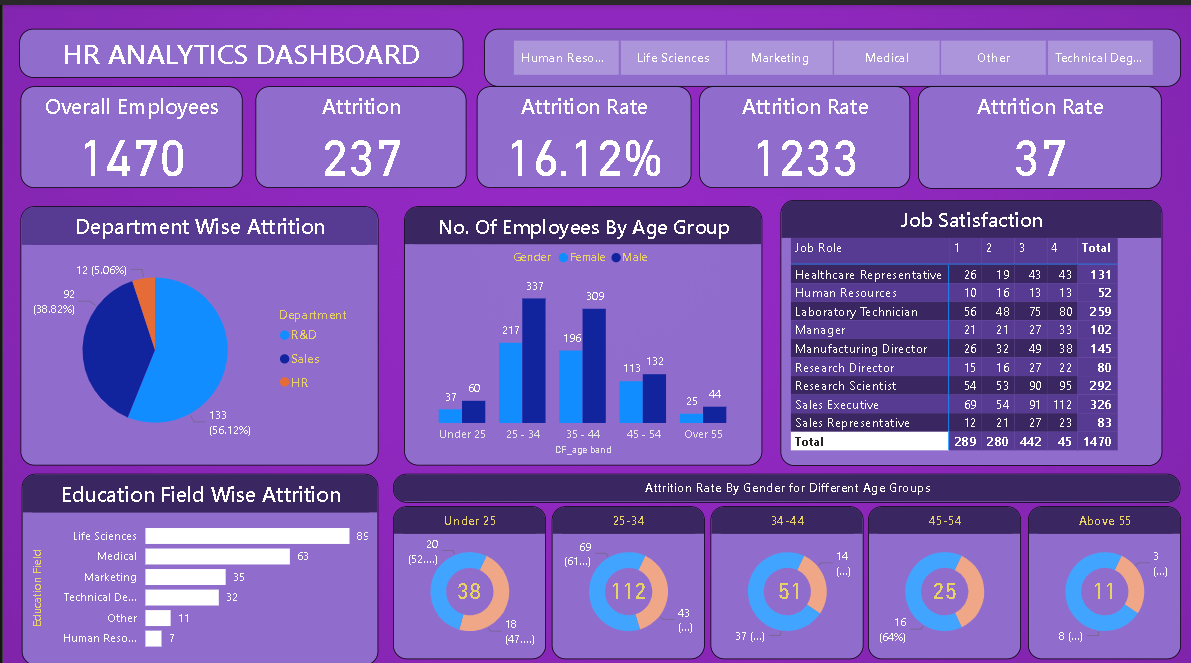

This screenshot's page, from the dashboard's own definition file:
{"tool":"powerbi","page":{"name":"Page 1","canvas":[1280,720],"ordinal":0},"visuals":[{"type":"card","title":"Overall Employees","fields":{"Values":["Sum(HR data.Employee Count)"]},"box":[18.5,87.9,238.8,109.7],"z":0},{"type":"card","title":"Attrition","fields":{"Values":["Sum(HR data.Attrition Count)"]},"box":[272.5,87.9,226.9,109.7],"z":1000},{"type":"card","title":"Attrition Rate","fields":{"Values":["HR data.Attrition Rate"]},"box":[510.3,87.9,231.2,109.7],"z":2000},{"type":"card","title":"Attrition Rate","fields":{"Values":["HR data.Active Employees"]},"box":[750.2,87.9,226.9,109.7],"z":3000},{"type":"card","title":"Attrition Rate","fields":{"Values":["Avg(HR data.Age)"]},"box":[985.9,87.8,262.3,110],"z":4000},{"type":"pieChart","title":"Department Wise Attrition","fields":{"Category":["HR data.Department"],"Y":["Sum(HR data.Attrition Count)"]},"box":[18.5,217.1,385.4,279],"z":5000},{"type":"clusteredColumnChart","title":"No. Of Employees By Age Group","fields":{"Category":["HR data.CF_age band"],"Y":["Sum(HR data.Employee Count)"],"Series":["HR data.Gender"]},"box":[432.1,217.1,385.4,279],"z":6000},{"type":"pivotTable","title":"Job Satisfaction","fields":{"Columns":["HR data.Job Satisfaction"],"Rows":["HR data.Job Role"],"Values":["Sum(HR data.Employee Count)"]},"box":[836.8,209.5,411.5,286.7],"z":7000},{"type":"clusteredBarChart","title":"Education Field Wise Attrition","fields":{"Category":["HR data.Education Field"],"Y":["Sum(HR data.Attrition Count)"]},"box":[19.5,504.8,384.3,206.3],"z":8000},{"type":"donutChart","title":"Under 25","fields":{"Y":["Sum(HR data.Attrition Count)"],"Category":["HR data.Gender"],"Series":["HR data.CF_age band"]},"box":[420,539.5,165,165],"z":8001},{"type":"textbox","title":"Attrition Rate By Gender for Different Age Groups","box":[420,504.6,848.4,31],"z":8002},{"type":"donutChart","title":"25-34","fields":{"Y":["Sum(HR data.Attrition Count)"],"Category":["HR data.Gender"],"Series":["HR data.CF_age band"]},"box":[591.3,539.5,165,165],"z":8003},{"type":"donutChart","title":"45-54","fields":{"Y":["Sum(HR data.Attrition Count)"],"Category":["HR data.Gender"],"Series":["HR data.CF_age band"]},"box":[932,539.5,165,165],"z":8004},{"type":"donutChart","title":"34-44","fields":{"Y":["Sum(HR data.Attrition Count)"],"Category":["HR data.Gender"],"Series":["HR data.CF_age band"]},"box":[761.7,539.5,165,165],"z":8005},{"type":"donutChart","title":"Above 55","fields":{"Y":["Sum(HR data.Attrition Count)"],"Category":["HR data.Gender"],"Series":["HR data.CF_age band"]},"box":[1103.3,539.5,165,165],"z":8006},{"type":"card","fields":{"Values":["Sum(HR data.Attrition Count)"]},"box":[472.5,608,59.3,44.2],"z":8007},{"type":"card","fields":{"Values":["Sum(HR data.Attrition Count)"]},"box":[816.9,608,59.3,44.2],"z":8008},{"type":"card","fields":{"Values":["Sum(HR data.Attrition Count)"]},"box":[643.8,608,59.3,44.2],"z":8009},{"type":"card","fields":{"Values":["Sum(HR data.Attrition Count)"]},"box":[983.5,608,59.3,44.2],"z":8010},{"type":"card","fields":{"Values":["Sum(HR data.Attrition Count)"]},"box":[1155.8,608,59.3,44.2],"z":8011},{"type":"textbox","title":"HR ANALYTICS DASHBOARD","box":[18,25.4,478.1,52.9],"z":8012},{"type":"slicer","fields":{"Values":["HR data.Education Field"]},"box":[518.3,25.4,750,62.4],"z":8013}]}

Visuals, with their boxes in screenshot pixels (x1, y1, x2, y2), scaled from the page's 1280x720 canvas onto the 1191x663 screenshot:
"Overall Employees" card: bbox(17, 81, 239, 182)
"Attrition" card: bbox(254, 81, 465, 182)
"Attrition Rate" card: bbox(475, 81, 690, 182)
"Attrition Rate" card: bbox(698, 81, 909, 182)
"Attrition Rate" card: bbox(917, 81, 1161, 182)
"Department Wise Attrition" pieChart: bbox(17, 200, 376, 457)
"No. Of Employees By Age Group" clusteredColumnChart: bbox(402, 200, 761, 457)
"Job Satisfaction" pivotTable: bbox(779, 193, 1162, 457)
"Education Field Wise Attrition" clusteredBarChart: bbox(18, 465, 376, 655)
"Under 25" donutChart: bbox(391, 497, 544, 649)
"Attrition Rate By Gender for Different Age Groups" textbox: bbox(391, 465, 1180, 493)
"25-34" donutChart: bbox(550, 497, 704, 649)
"45-54" donutChart: bbox(867, 497, 1021, 649)
"34-44" donutChart: bbox(709, 497, 862, 649)
"Above 55" donutChart: bbox(1027, 497, 1180, 649)
card - Sum(HR data.Attrition Count): bbox(440, 560, 495, 601)
card - Sum(HR data.Attrition Count): bbox(760, 560, 815, 601)
card - Sum(HR data.Attrition Count): bbox(599, 560, 654, 601)
card - Sum(HR data.Attrition Count): bbox(915, 560, 970, 601)
card - Sum(HR data.Attrition Count): bbox(1075, 560, 1131, 601)
"HR ANALYTICS DASHBOARD" textbox: bbox(17, 23, 462, 72)
slicer - HR data.Education Field: bbox(482, 23, 1180, 81)
